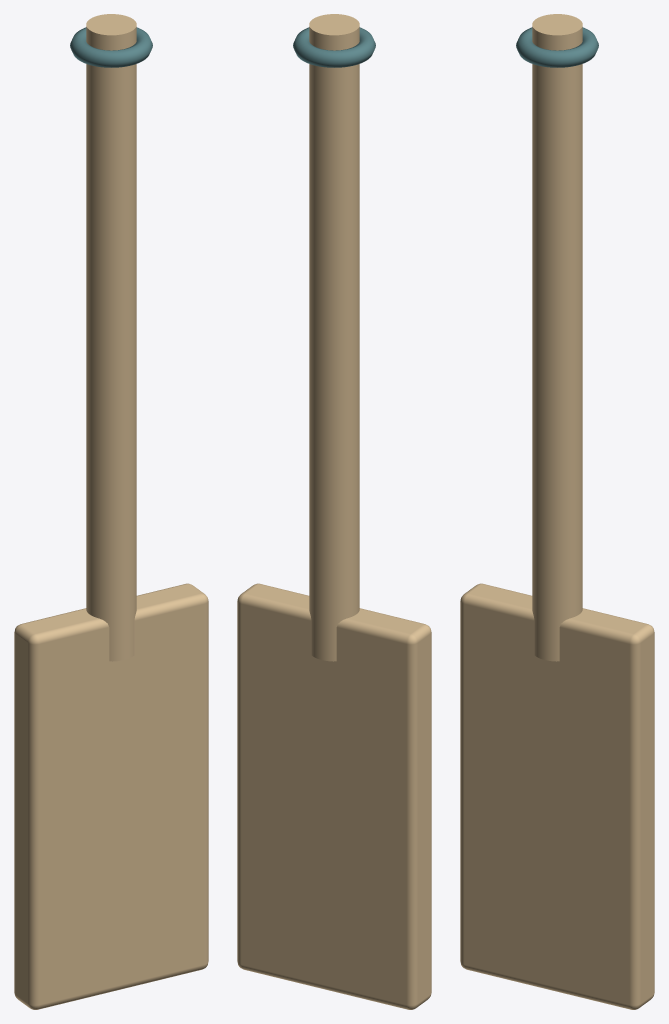
Rendered from candlemaking-and-soap-workshop-stirring-paddle-7b39199c__30675.glb.
The picture shows the model from 3 angles, left to right: view 1: azimuth 30°, elevation 25°; view 2: azimuth 150°, elevation 25°; view 3: azimuth 330°, elevation 25°; orthographic projection.
Parts seen in each view (by area): view 1: stirring-paddle; view 2: stirring-paddle; view 3: stirring-paddle.
Boxes of the visible parts, left/top/right/bottom form: stirring-paddle: left=14, top=14, right=208, bottom=1009; stirring-paddle: left=237, top=14, right=431, bottom=1009; stirring-paddle: left=460, top=14, right=654, bottom=1009.
Size of the model in its own units: 0.09 by 0.46 by 0.036.
